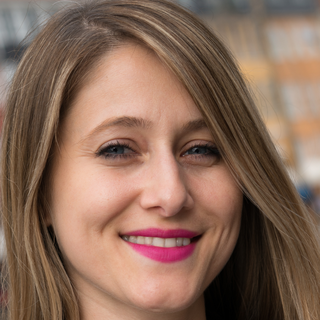eye: (88, 135, 145, 164), (173, 135, 227, 165)
